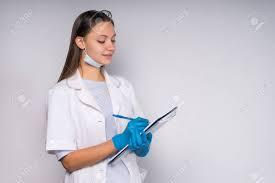Wore Mask Incorrectly: (72, 10, 132, 76)
